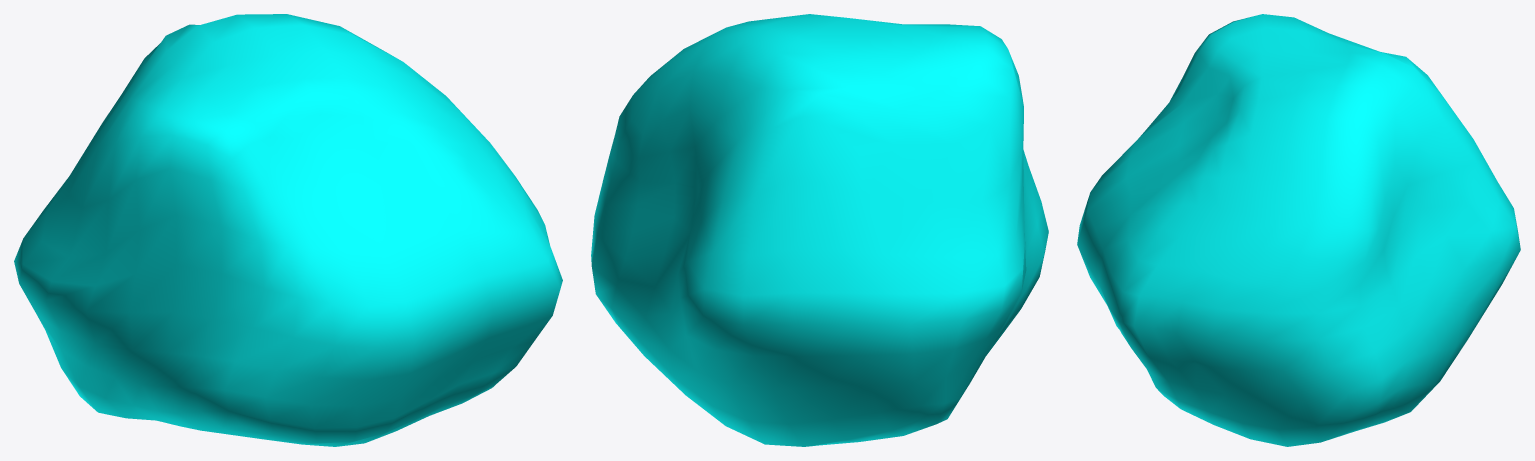
Rendered from décombre.fbx.
3 renders of one model, left to right at view 1: azimuth 30°, elevation 25°; view 2: azimuth 150°, elevation 25°; view 3: azimuth 270°, elevation 25°, orthographic. The views are drawn at different scales.
Parts seen in each view (by area): view 1: pCube186; view 2: pCube186; view 3: pCube186.
Boxes of the visible parts, bbox=[...] form: pCube186: bbox=[14, 14, 562, 446]; pCube186: bbox=[591, 14, 1048, 446]; pCube186: bbox=[1077, 14, 1520, 446].
Bounding box in the file's own units: 6065 × 5200 × 6043.
